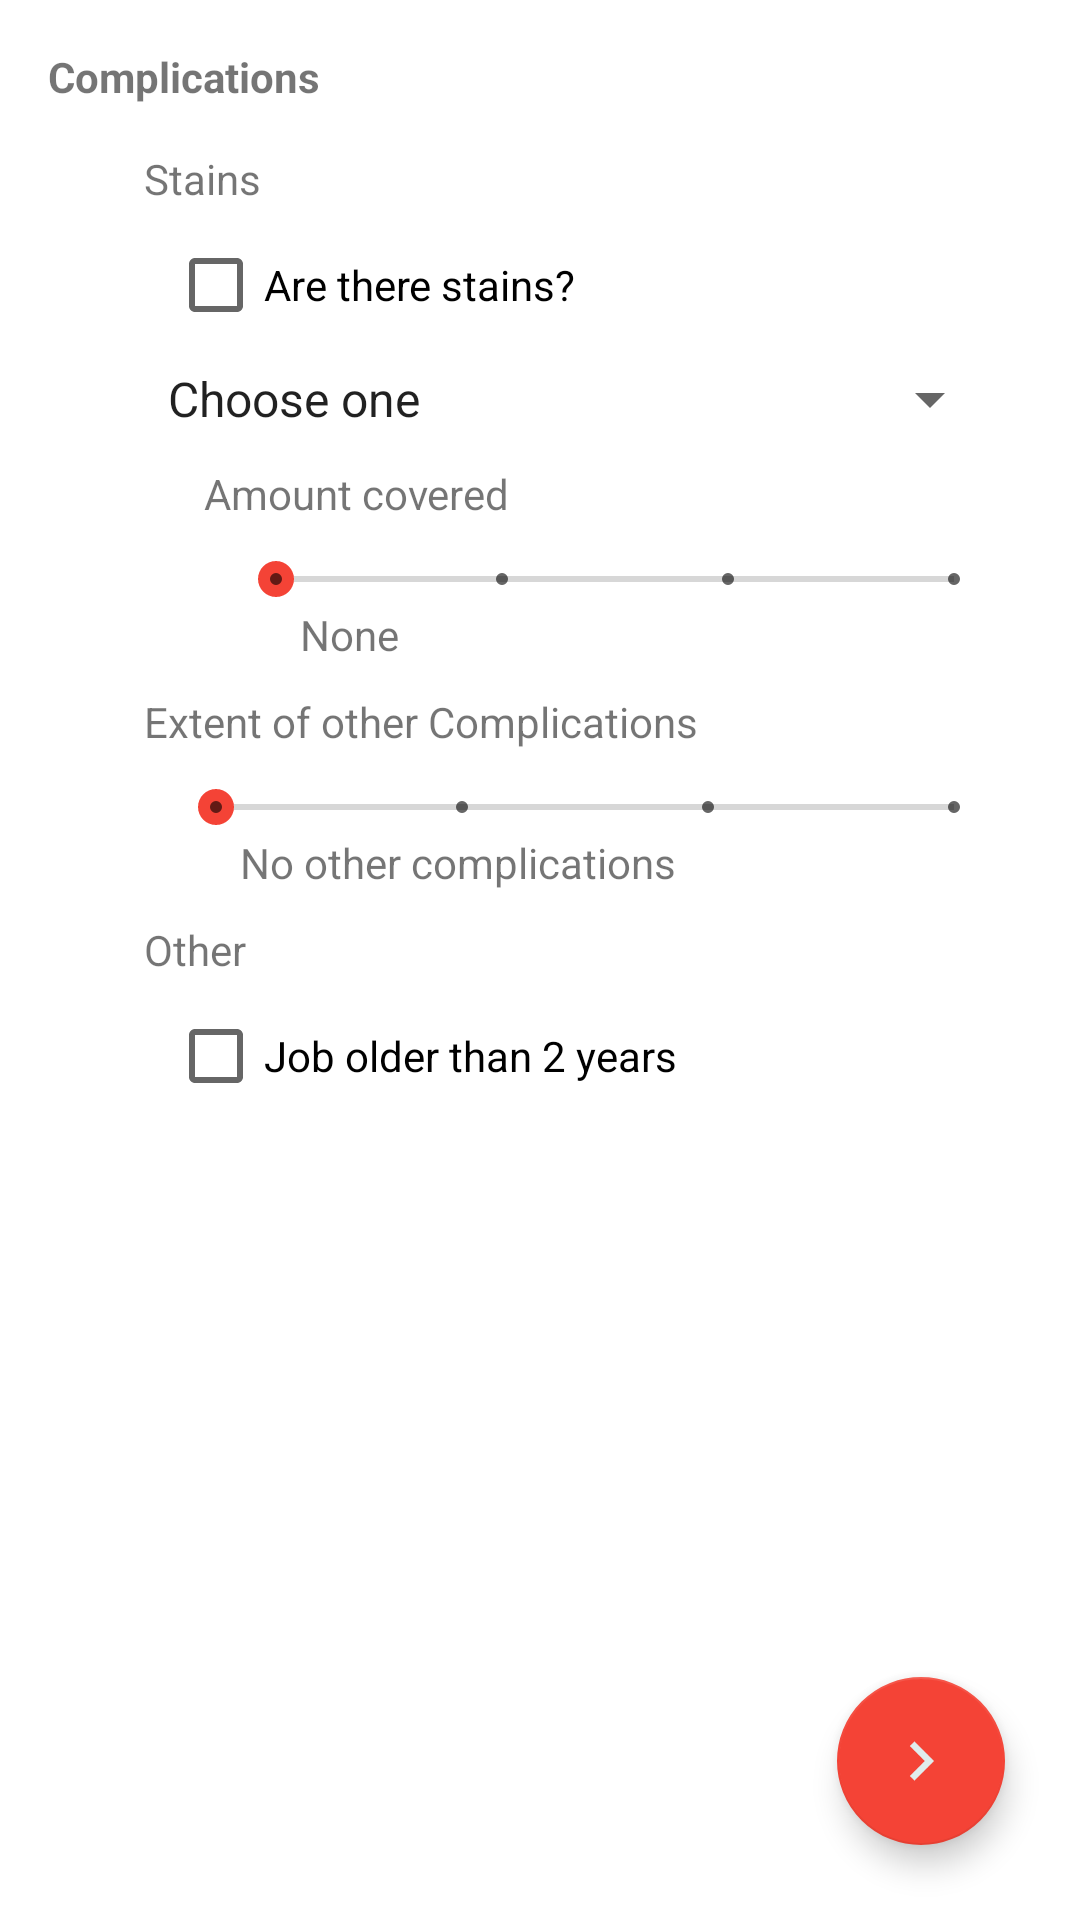

Icons on this 1080×1920 Android screen, each with the point to tap as [x,y]:
right arrow: [921,1761]
